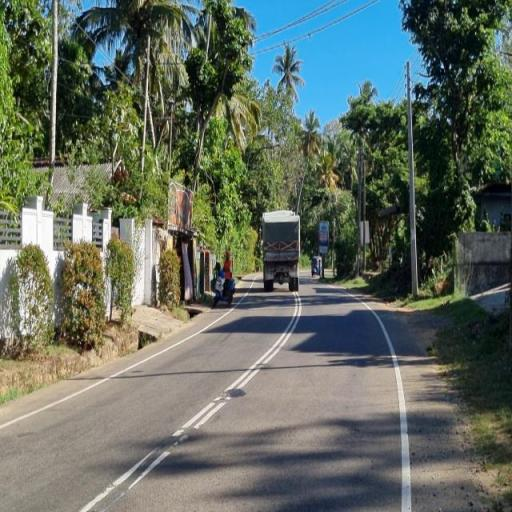double_white_line: (174, 294, 302, 435)
